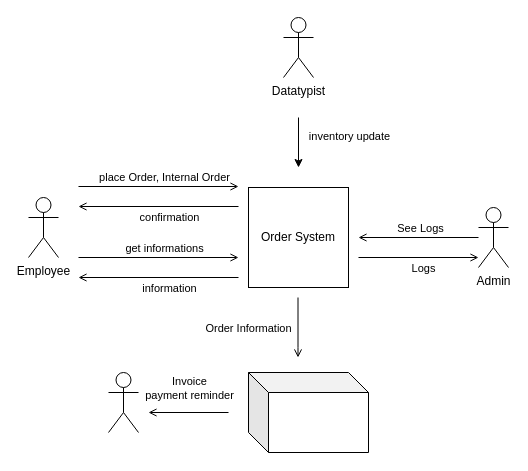
Image size: 528x471. Some labels were removed from this diagram. Here are the shapes that lost their labels. From the top down, the box of each, then its label:
(108, 372, 138, 432): Customer
(248, 372, 368, 452): Accounting
